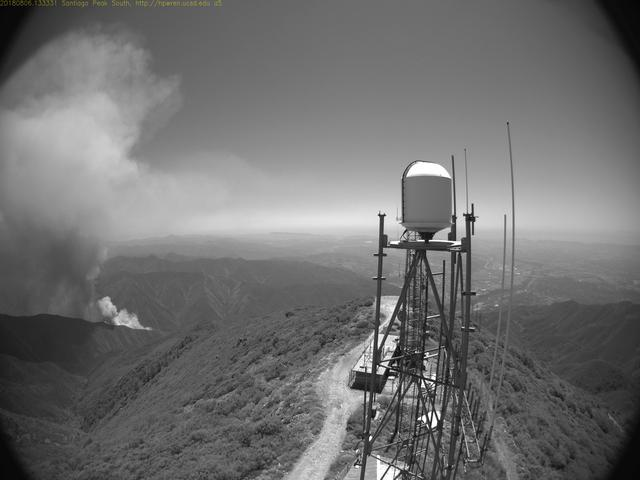smoke: (2, 28, 152, 333)
